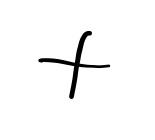plus: (39, 31, 110, 100)
